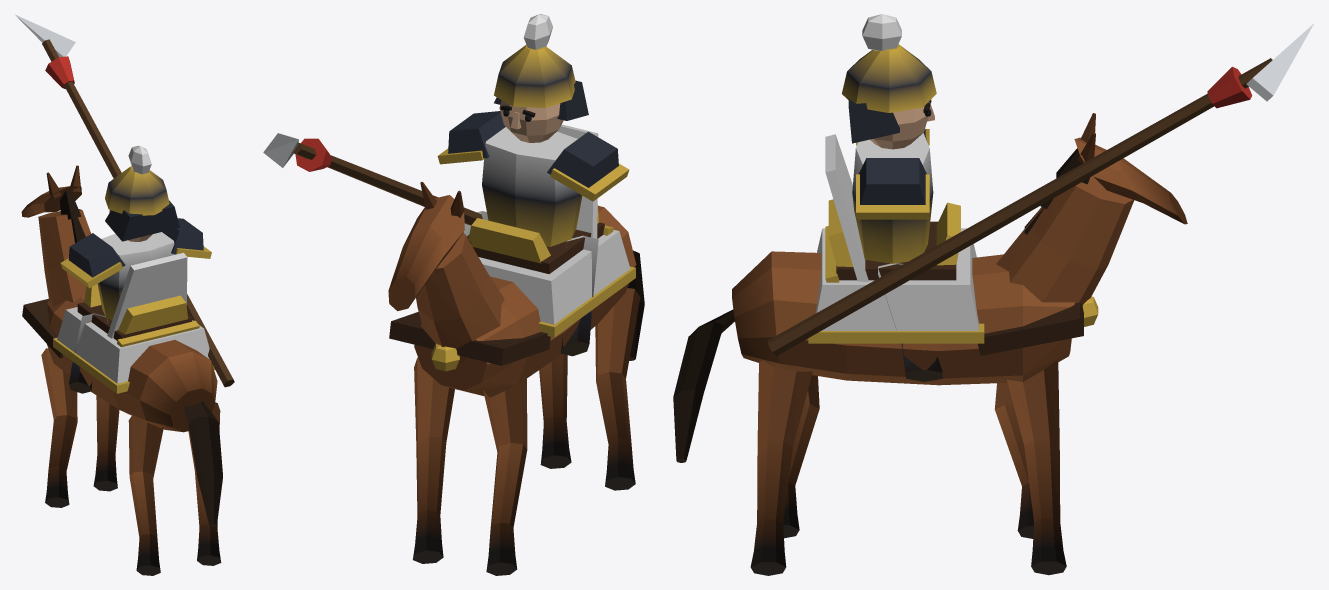
The model's file is cavalry.glb.
3 views of the same model, side by side, from view 1: azimuth 30°, elevation 25°; view 2: azimuth 150°, elevation 25°; view 3: azimuth 270°, elevation 25° (orthographic). The views are drawn at different scales.
Visible parts, largest first — view 1: cavalry; view 2: cavalry; view 3: cavalry.
Part boxes in pixels (box(x1,y1,x2,y2)): cavalry: box(15, 14, 234, 575); cavalry: box(263, 14, 644, 575); cavalry: box(673, 14, 1313, 575).
Bounding box in the file's own units: 0.6173 × 1.72 × 1.82.
